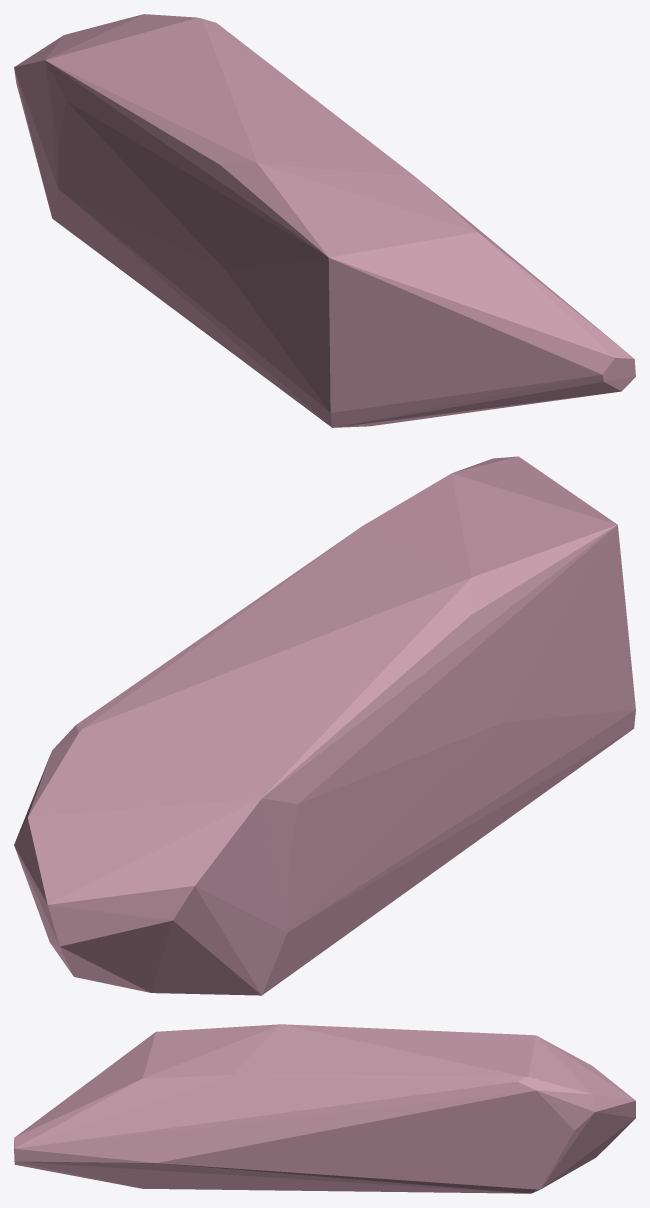
The model's file is water_cooler_a01.glb.
The picture shows the model from 3 angles, top to bottom: view 1: azimuth 30°, elevation 25°; view 2: azimuth 150°, elevation 25°; view 3: azimuth 270°, elevation 25°; orthographic projection. The views are drawn at different scales.
Visible parts, largest first — view 1: geometry_0; view 2: geometry_0; view 3: geometry_0.
Boxes of the visible parts, x1,y1,x2,y2 form: geometry_0: (14, 14, 635, 427); geometry_0: (14, 456, 635, 995); geometry_0: (14, 1024, 635, 1193).
Size of the model in its own units: 0.1283 by 0.114 by 0.48.
